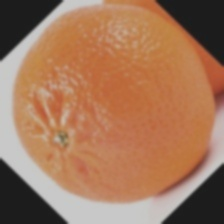orange: (53, 40, 212, 197)
